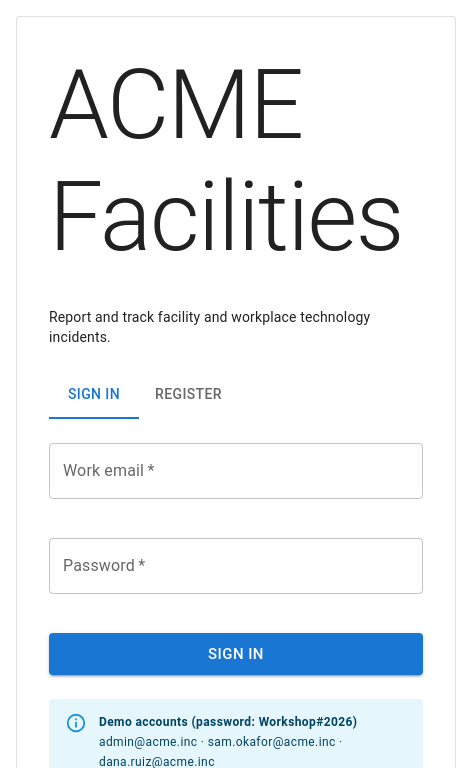
registering › flattens field validation errors from the API
Click the tab "Register" at (188, 395), box [139,371,238,419]
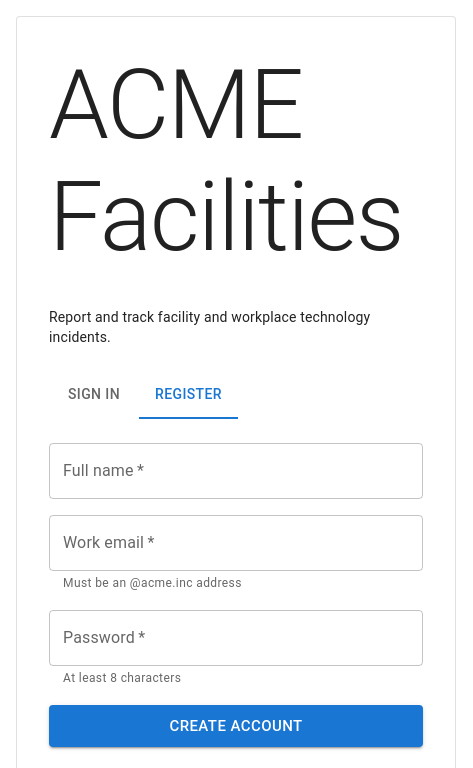
Type "Nope Person" into the field labelled "Full name *" at (236, 471), box [49,443,423,499]
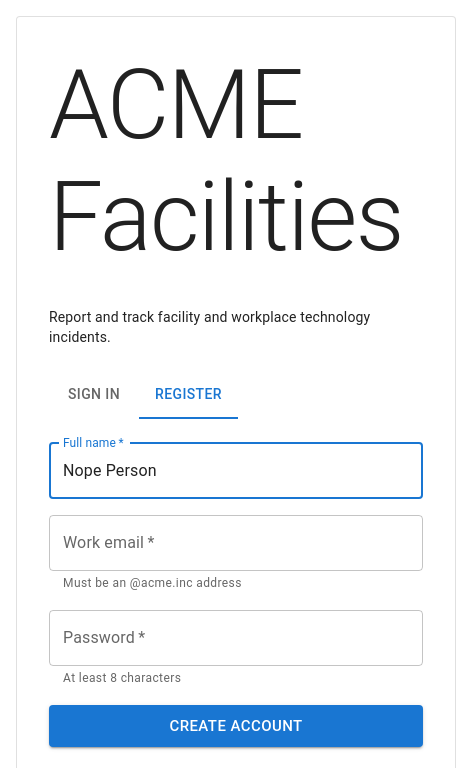
Type "someone@gmail.com" into the field labelled "Work email *" at (236, 543), box [49,515,423,571]
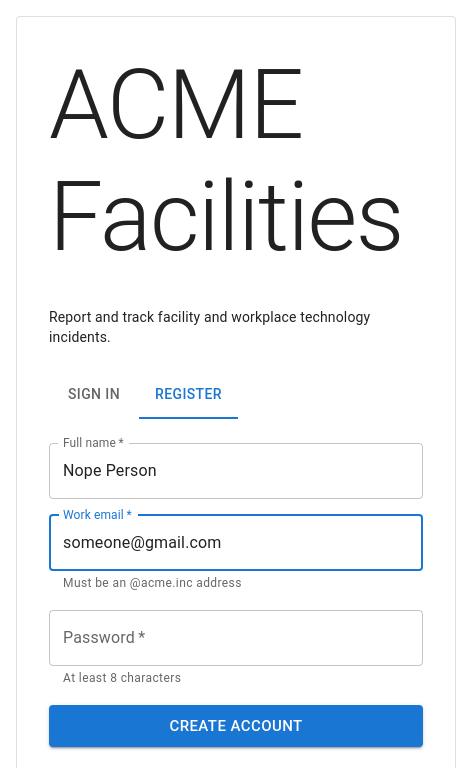
Type "password123" into the password field labelled "Password *" at (236, 638), box [49,610,423,666]
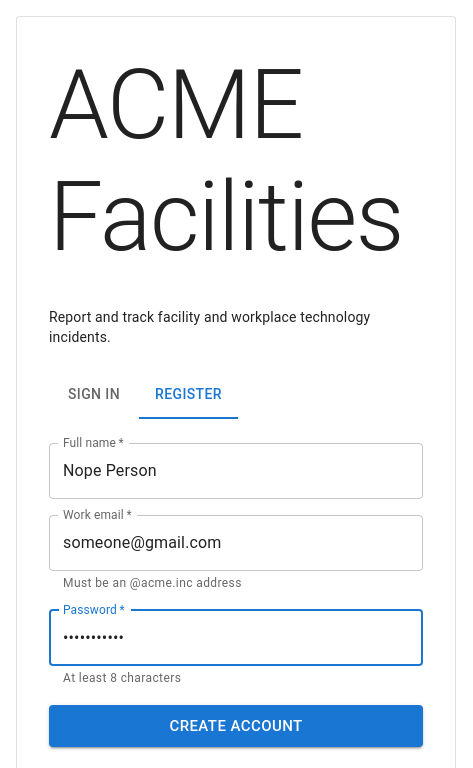
Click the button "Create account" at (236, 726), box [49,704,423,747]
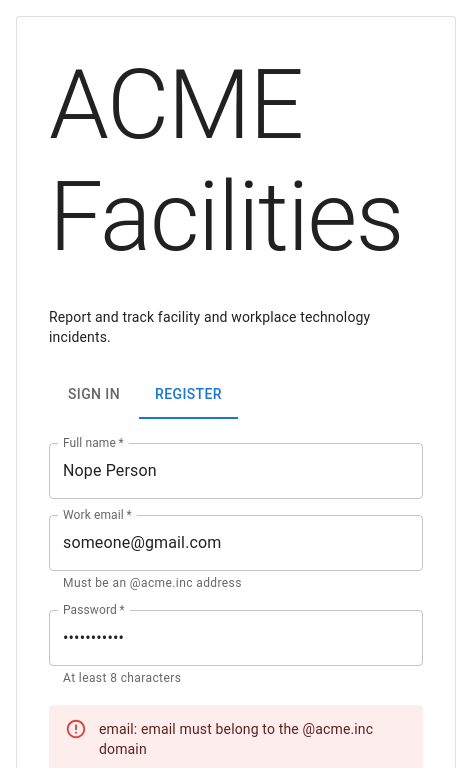
Result: the text "email: email must belong to the @acme.inc domain" is shown at [99,710,407,766]
